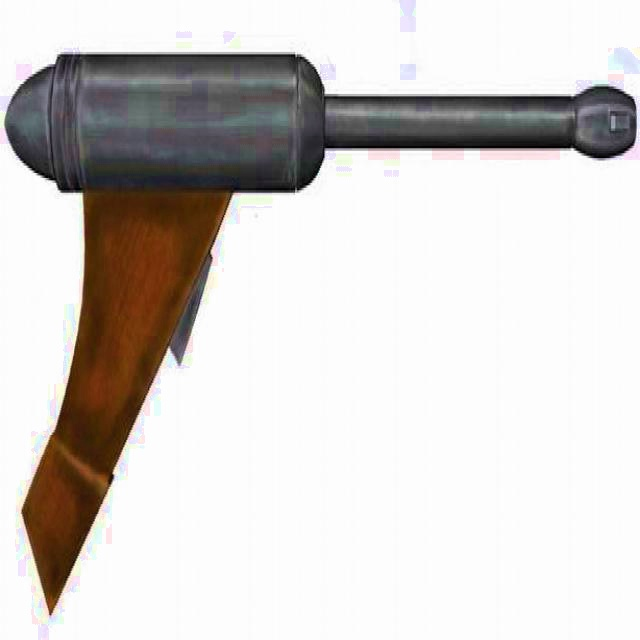gun: (1, 34, 636, 628)
